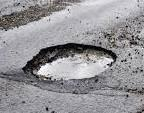pothole: (23, 39, 116, 82)
